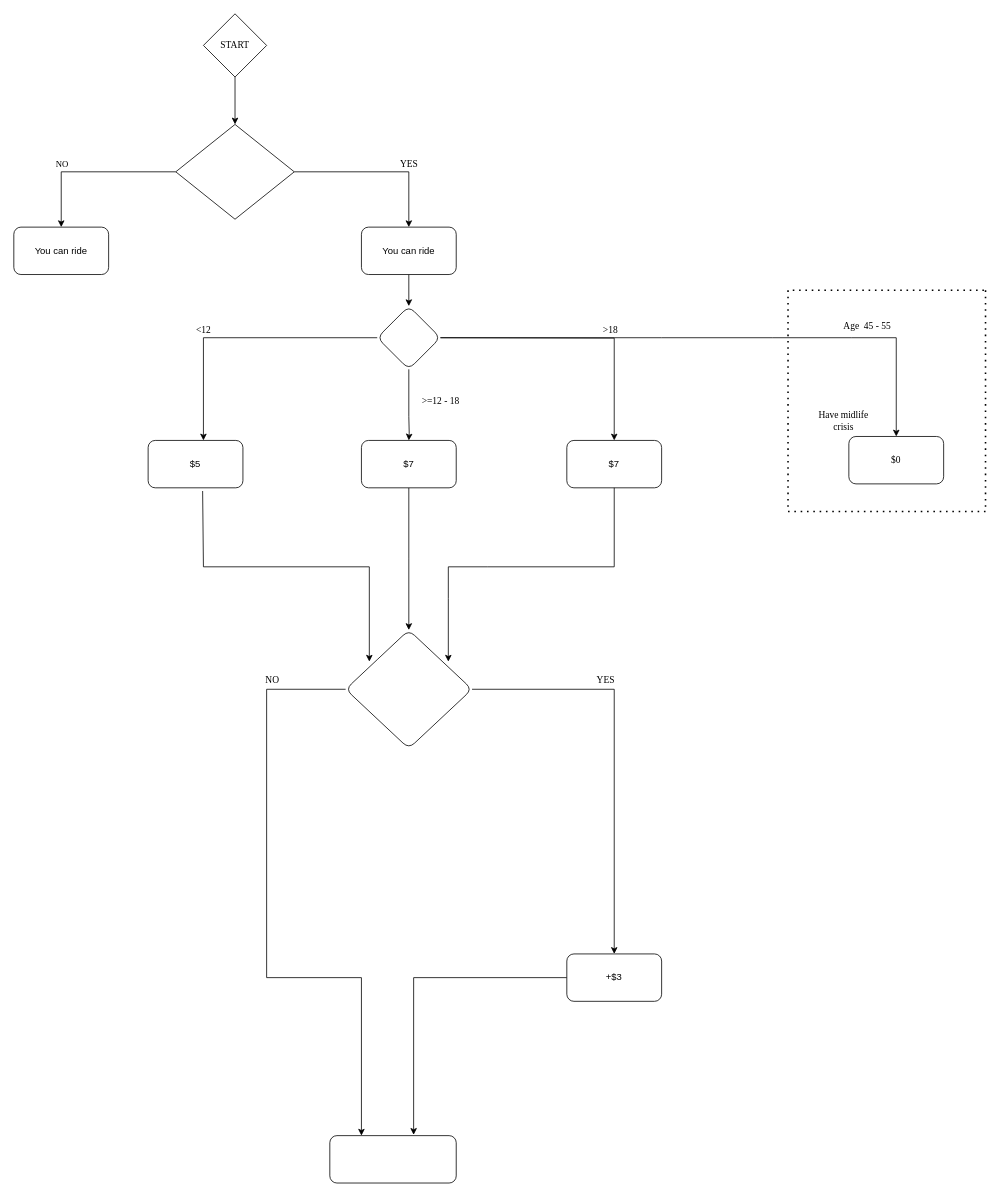
Image size: 1001x1197. Some labels were removed from this diagram. Here are the shapes that lost their labels. From the top down, the centre of each, then its label:
At (234,171): "Height > 120".
At (408,337): "Your age".
At (408,689): "Do you want to take a picture?".
At (392,1159): "Final Amount $".
